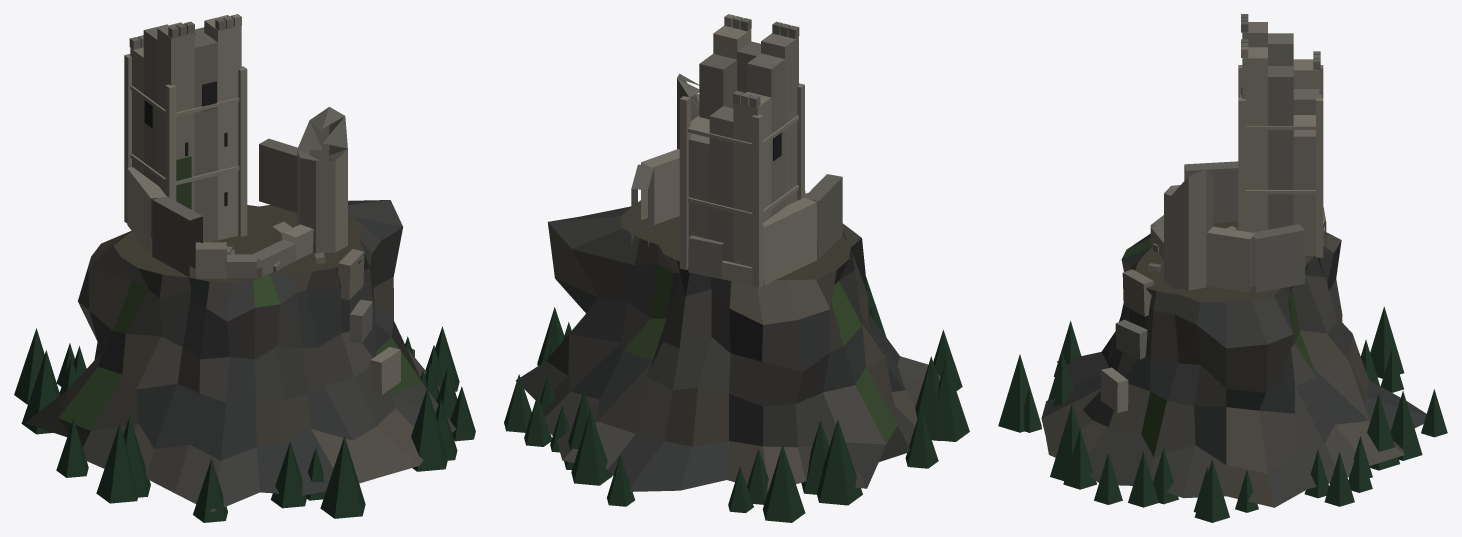
File: eifel-castle-lod.glb
3 renders of one model, left to right at view 1: azimuth 30°, elevation 25°; view 2: azimuth 150°, elevation 25°; view 3: azimuth 270°, elevation 25°, orthographic. The views are drawn at different scales.
Visible parts, largest first — view 1: eifel-castle; view 2: eifel-castle; view 3: eifel-castle.
Boxes of the visible parts, bbox=[...] form: eifel-castle: bbox=[14, 14, 475, 522]; eifel-castle: bbox=[504, 14, 969, 522]; eifel-castle: bbox=[998, 14, 1447, 522].
Bounding box in the file's own units: 51.97 × 51.4 × 54.59.
